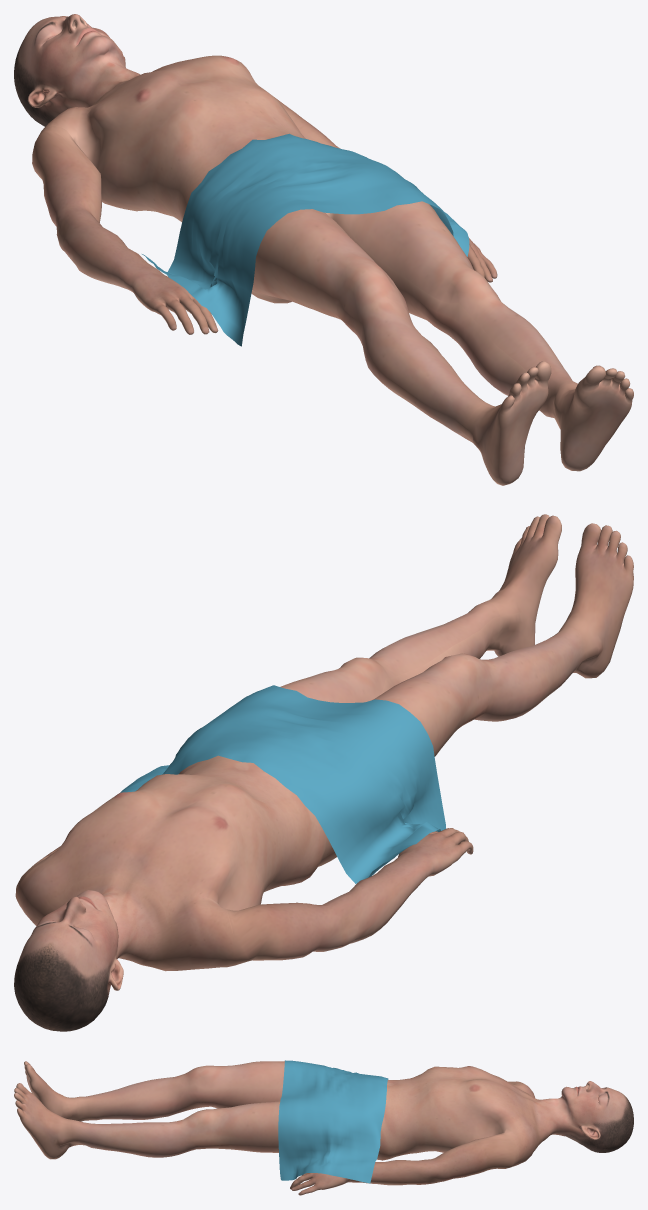
The model's file is patient.glb.
3 views of the same model, one above another, from view 1: azimuth 30°, elevation 25°; view 2: azimuth 150°, elevation 25°; view 3: azimuth 270°, elevation 25° (orthographic). The views are drawn at different scales.
Parts seen in each view (by area): view 1: Body, Serviette; view 2: Body, Serviette; view 3: Body, Serviette.
Boxes of the visible parts, x1,y1,x2,y2 form: Body: [14, 14, 633, 485]; Serviette: [142, 133, 469, 346]; Body: [14, 514, 633, 1031]; Serviette: [120, 685, 445, 883]; Body: [14, 1061, 633, 1195]; Serviette: [278, 1060, 388, 1183].
Size of the model in its own units: 64.25 by 26.97 by 186.
2 materials, 1 textured.
